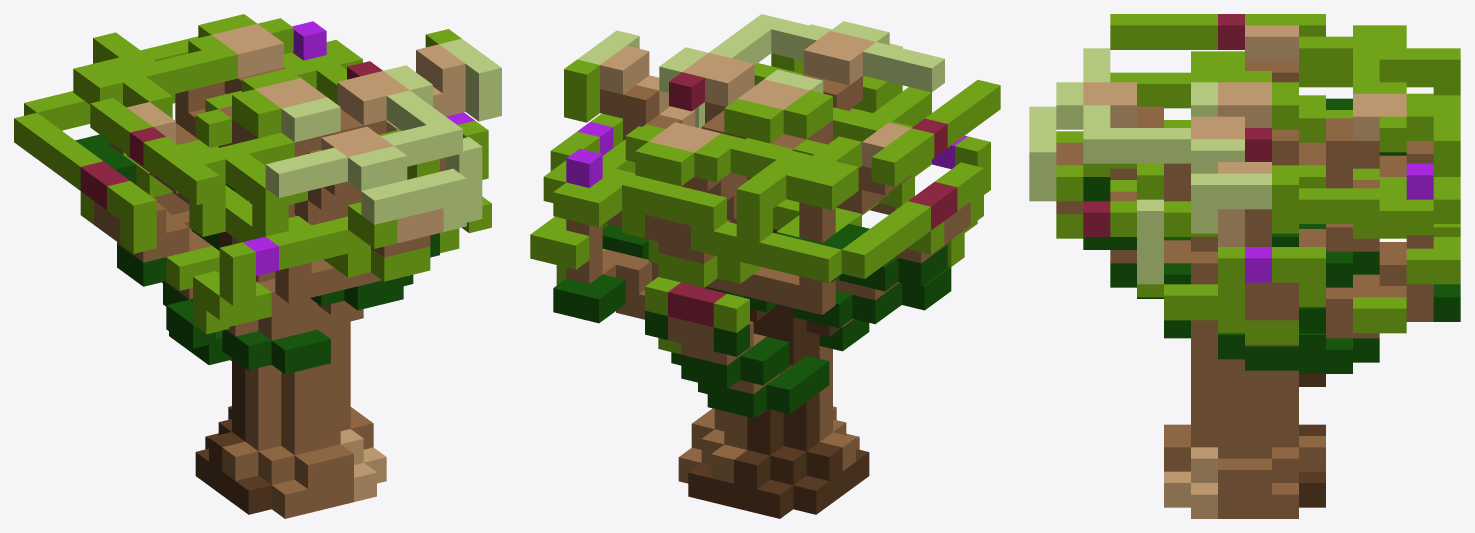
The model's file is Mateo_Sánchez_Ramos_fase_3.obj.
The picture shows the model from 3 angles, left to right: view 1: azimuth 30°, elevation 25°; view 2: azimuth 150°, elevation 25°; view 3: azimuth 270°, elevation 25°; orthographic projection.
Parts seen in each view (by area): view 1: Mateo_Sánchez_Ramos_fase_3; view 2: Mateo_Sánchez_Ramos_fase_3; view 3: Mateo_Sánchez_Ramos_fase_3.
Boxes of the visible parts, x1,y1,x2,y2 form: Mateo_Sánchez_Ramos_fase_3: [14, 14, 501, 518]; Mateo_Sánchez_Ramos_fase_3: [530, 14, 1000, 518]; Mateo_Sánchez_Ramos_fase_3: [1029, 14, 1460, 518].
Size of the model in its own units: 16 by 16 by 16.
Materials: 1 (1 with a texture image).
